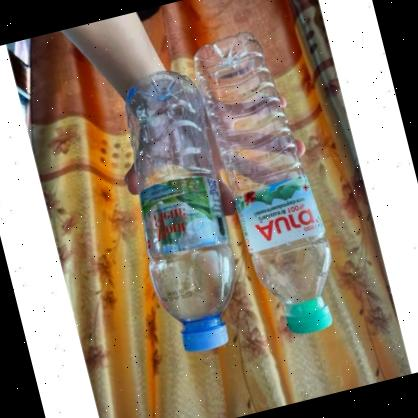bottle: (189, 23, 351, 345), (102, 63, 260, 360)
cap: (177, 314, 230, 354), (282, 297, 336, 336)
label: (132, 168, 234, 263), (234, 174, 324, 257)
